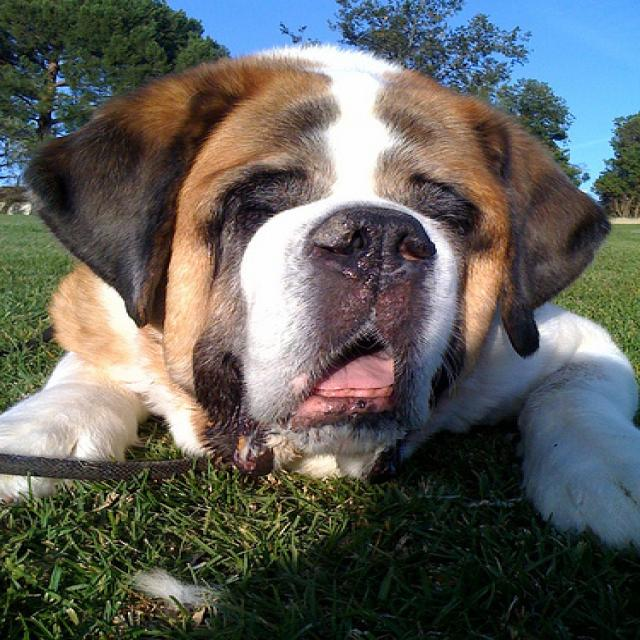dog-saint_bernard: (2, 32, 637, 563)
